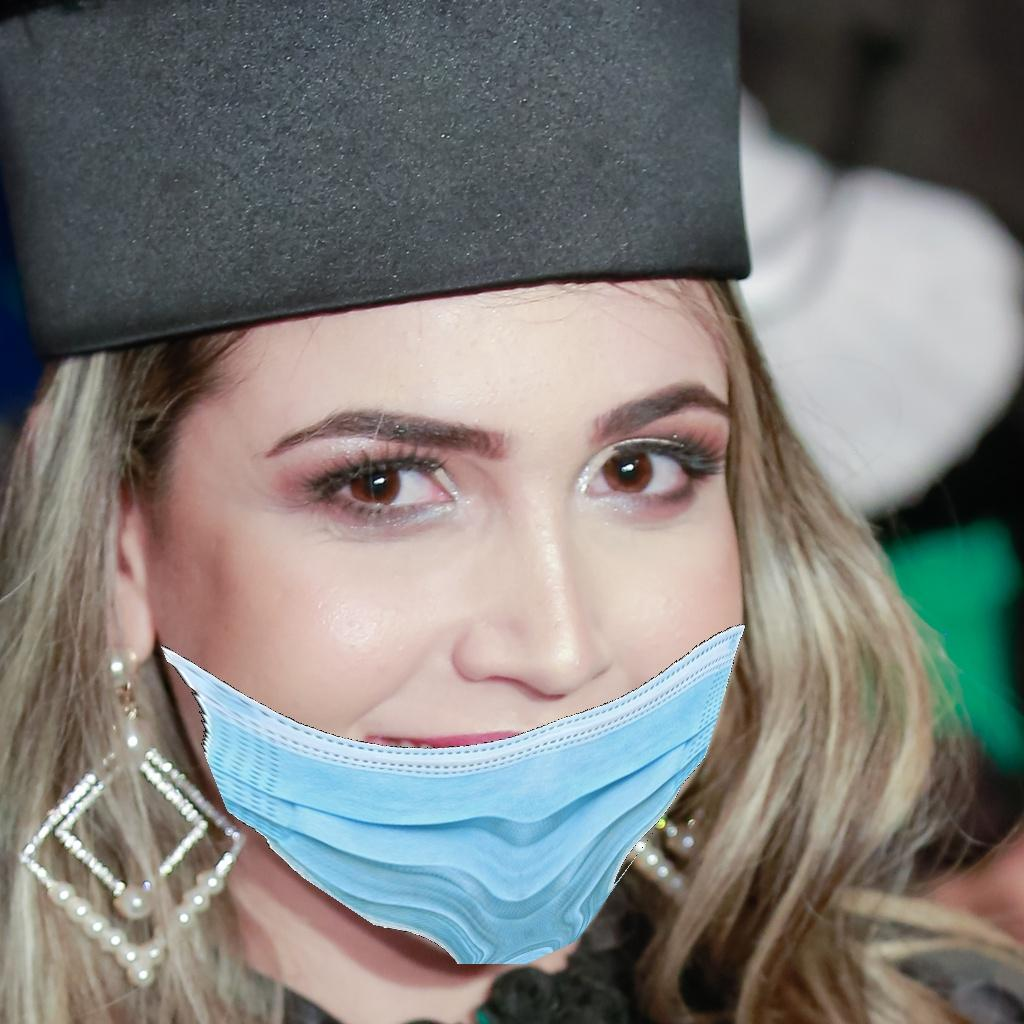Máscara Incorreta: (155, 356, 764, 931)
